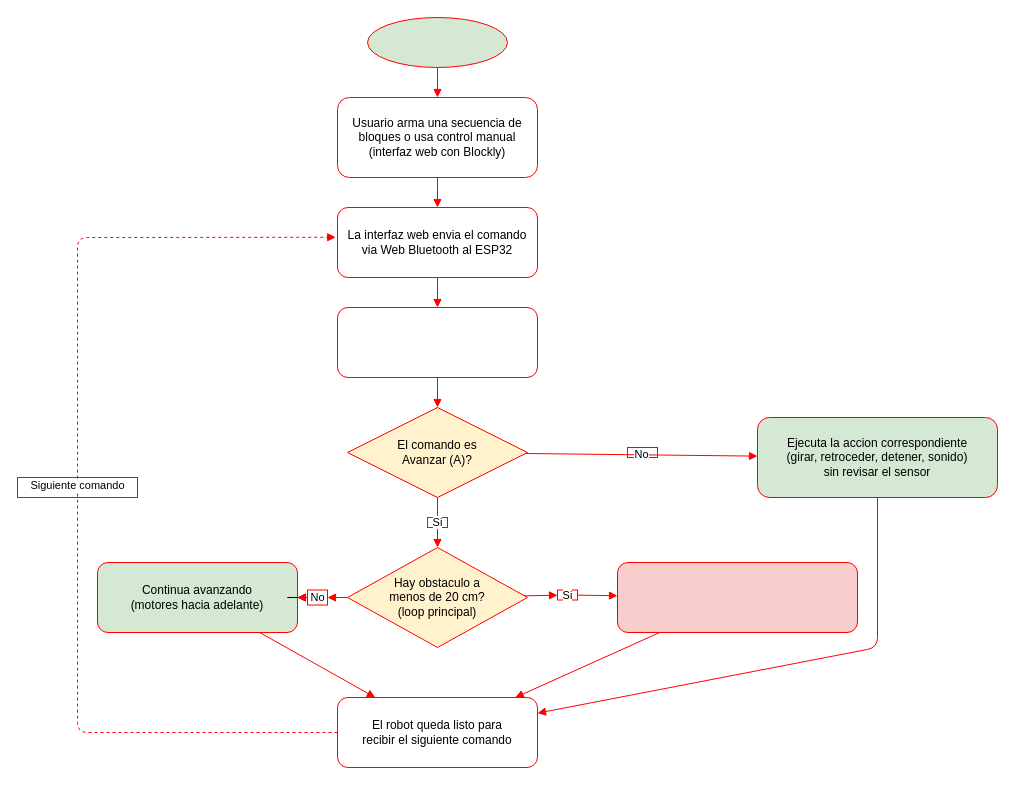
The diagram is 1015 pixels wide and 785 high, and some of its shapes have lost their labels. Each missing label, with the centre of its shape:
"Detiene el robot (estado = S) y emite sonido (buzzer) Frenado de emergencia" belongs at point 737,597.
"El ESP32 interpreta el comando (onWrite -> ejecutarComando)" belongs at point 437,342.
"Inicio" belongs at point 437,42.
